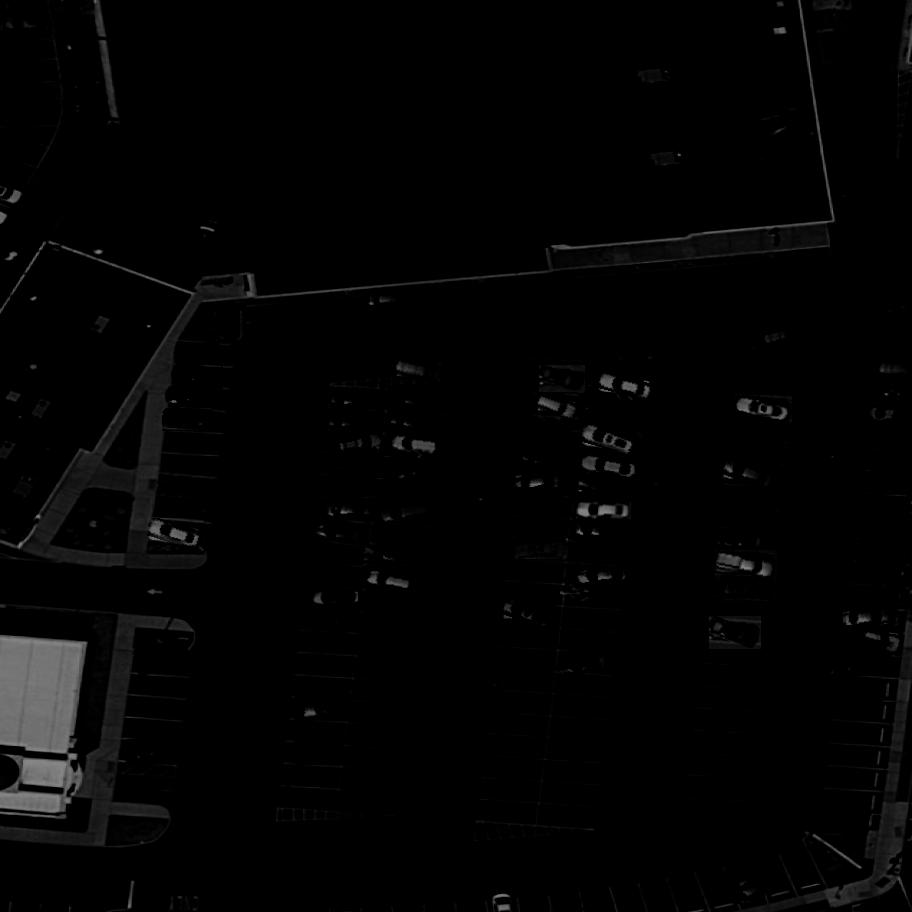small-vehicle: (517, 444, 581, 481), (500, 596, 558, 634), (836, 625, 903, 657), (581, 424, 641, 459), (860, 507, 911, 548), (719, 455, 776, 491), (570, 470, 630, 504), (712, 550, 779, 580), (149, 518, 206, 553), (597, 372, 656, 404), (709, 615, 762, 650), (362, 540, 417, 573), (731, 412, 789, 443), (512, 465, 570, 496), (736, 393, 792, 424), (579, 452, 641, 480), (725, 861, 765, 903), (386, 385, 442, 415), (312, 518, 368, 547), (839, 605, 898, 632), (296, 734, 346, 765), (392, 357, 447, 385), (576, 536, 631, 564), (330, 450, 383, 479), (719, 504, 772, 533), (295, 696, 352, 722), (134, 646, 188, 673), (539, 364, 587, 394), (388, 455, 441, 482), (387, 412, 441, 438), (744, 347, 796, 374), (126, 740, 182, 765), (534, 392, 580, 422), (741, 370, 794, 396), (379, 500, 434, 525), (330, 431, 385, 456), (366, 568, 416, 595), (515, 488, 563, 516), (163, 408, 212, 435), (174, 341, 223, 368), (721, 578, 776, 602), (364, 289, 423, 311), (745, 327, 793, 354), (574, 519, 630, 542), (173, 365, 224, 390), (558, 652, 612, 675), (386, 477, 434, 502), (840, 654, 894, 676), (390, 432, 439, 456), (515, 538, 570, 559), (733, 440, 785, 462), (11, 102, 61, 124), (519, 429, 573, 449), (324, 500, 379, 519), (575, 569, 630, 588), (728, 488, 779, 508), (716, 531, 769, 550), (328, 391, 380, 410), (693, 734, 744, 753), (328, 411, 379, 430), (576, 502, 631, 519), (492, 670, 545, 687), (834, 699, 883, 717), (311, 591, 361, 607), (169, 389, 215, 405), (2, 18, 52, 32)
